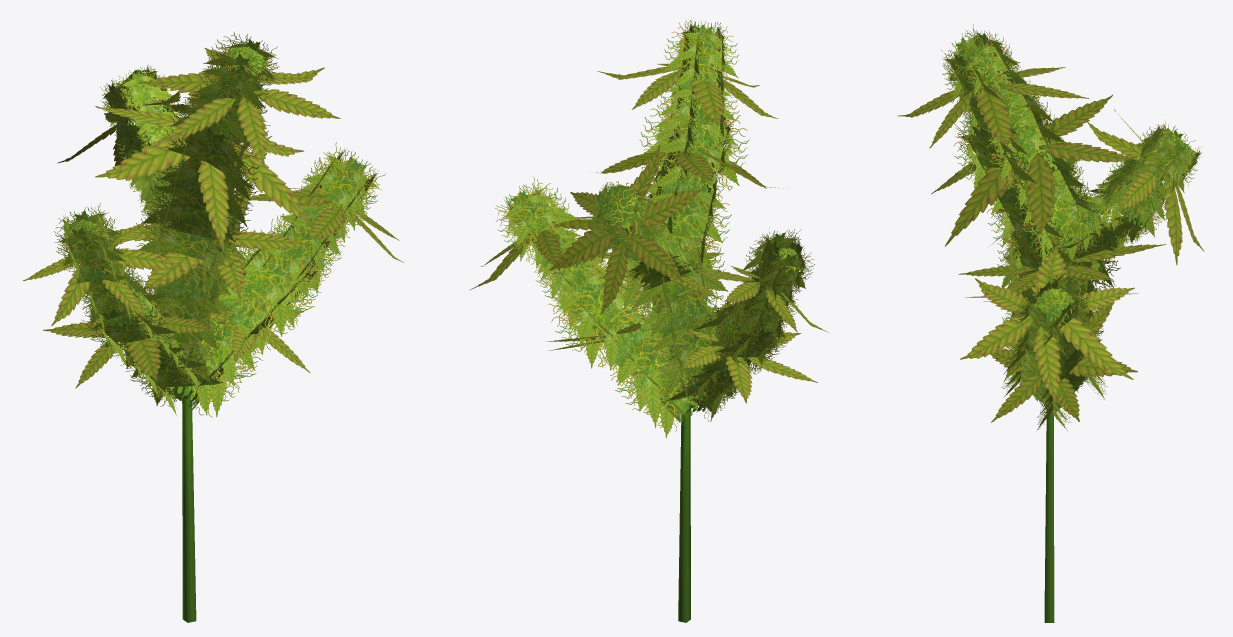
File: CannabisStage04_04.fbx
The picture shows the model from 3 angles, left to right: view 1: azimuth 30°, elevation 25°; view 2: azimuth 150°, elevation 25°; view 3: azimuth 270°, elevation 25°; orthographic projection. The views are drawn at different scales.
Visible parts, largest first — view 1: CannabisStage04_04_LOD0; view 2: CannabisStage04_04_LOD0; view 3: CannabisStage04_04_LOD0.
Part boxes in pixels (<box>): CannabisStage04_04_LOD0: <box>23,32,404,622</box>; CannabisStage04_04_LOD0: <box>469,20,828,622</box>; CannabisStage04_04_LOD0: <box>897,24,1204,622</box>.
Size of what is drawn, in the model's own units: 61.3 by 95.53 by 48.02.
